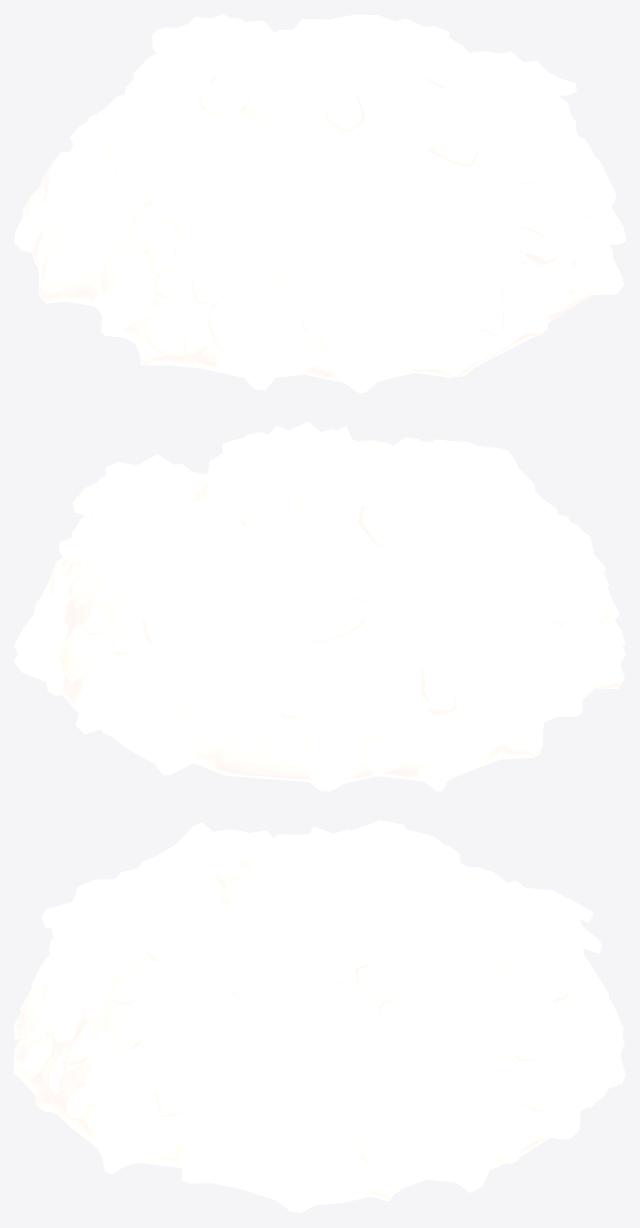
The model's file is arbusto-outono.glb.
The picture shows the model from 3 angles, top to bottom: view 1: azimuth 30°, elevation 25°; view 2: azimuth 150°, elevation 25°; view 3: azimuth 270°, elevation 25°; orthographic projection. The views are drawn at different scales.
Visible parts, largest first — view 1: mesh_node; view 2: mesh_node; view 3: mesh_node.
Part boxes in pixels (<box>): mesh_node: <box>14,14,625,392</box>; mesh_node: <box>14,421,625,791</box>; mesh_node: <box>14,820,625,1213</box>.
Bounding box in the file's own units: 1 × 0.4424 × 1.
1 material, 1 textured.
